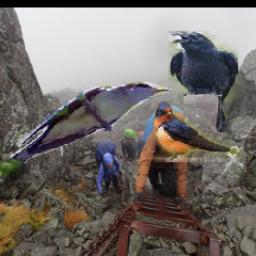Crow: (169, 32, 239, 133)
Cuckoo: (0, 81, 173, 181)
Swallow: (153, 102, 243, 163)
